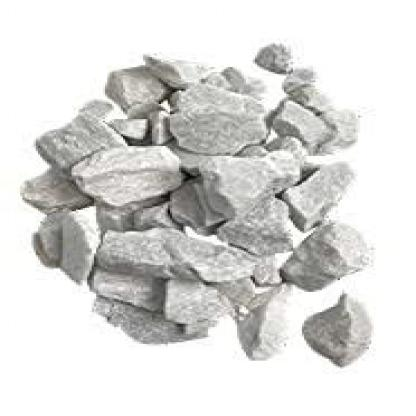Metamorphic_Marble: (92, 223, 250, 284), (280, 211, 393, 290), (61, 136, 186, 206), (163, 77, 266, 154), (197, 151, 302, 220), (297, 283, 376, 359)
